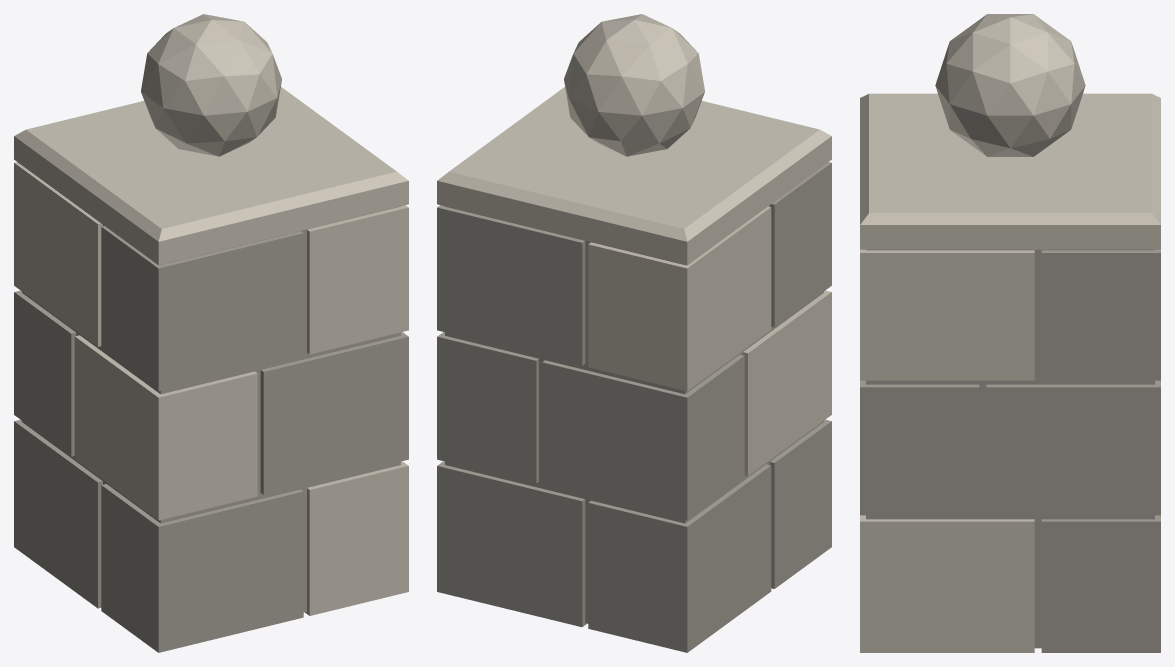
Rendered from FMS_Garden_Wall_Pillar.fbx.
3 views of the same model, side by side, from view 1: azimuth 30°, elevation 25°; view 2: azimuth 150°, elevation 25°; view 3: azimuth 270°, elevation 25° (orthographic). The views are drawn at different scales.
Parts seen in each view (by area): view 1: FMS_Garden_Wall_Pillar_Body; view 2: FMS_Garden_Wall_Pillar_Body; view 3: FMS_Garden_Wall_Pillar_Body.
Part boxes in pixels (left/top/right/bottom): FMS_Garden_Wall_Pillar_Body: left=14, top=14, right=408, bottom=652; FMS_Garden_Wall_Pillar_Body: left=437, top=14, right=831, bottom=652; FMS_Garden_Wall_Pillar_Body: left=860, top=14, right=1160, bottom=652.
Bounding box in the file's own units: 0.5 × 1.05 × 0.5.
Materials: 1 (1 with a texture image).
